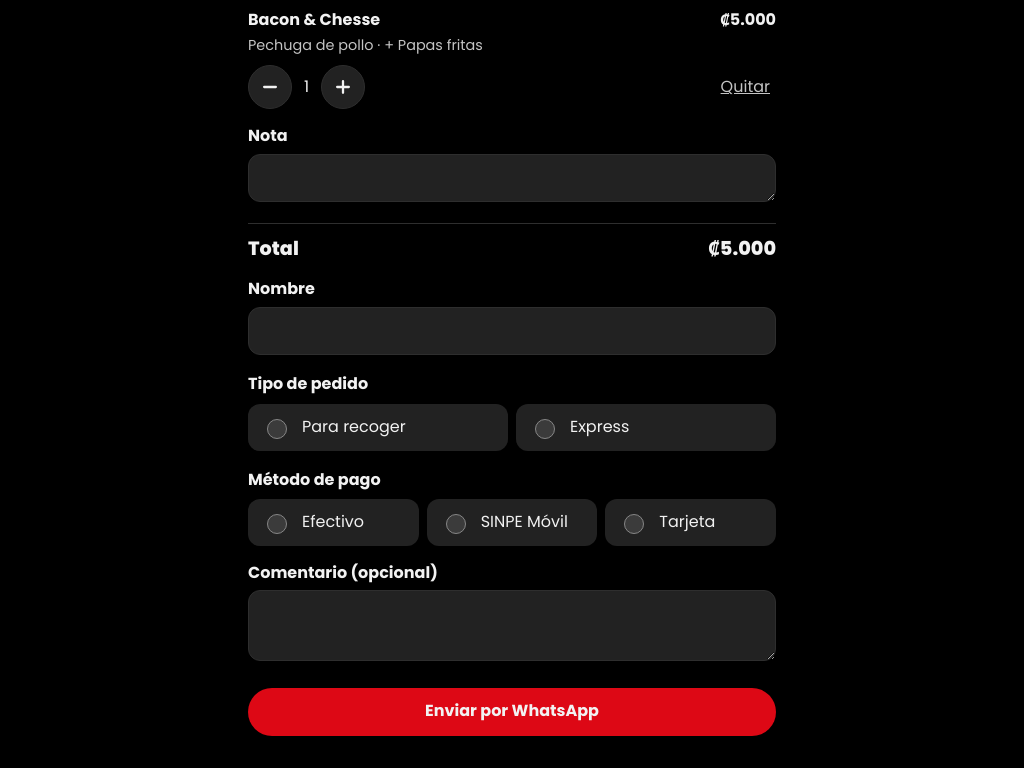
Test: OrderView › anuncia los datos que faltan y lleva el foco al primer campo
(page scrolled)
Click the button "Enviar por WhatsApp": click(512, 712) [248,688,776,736]
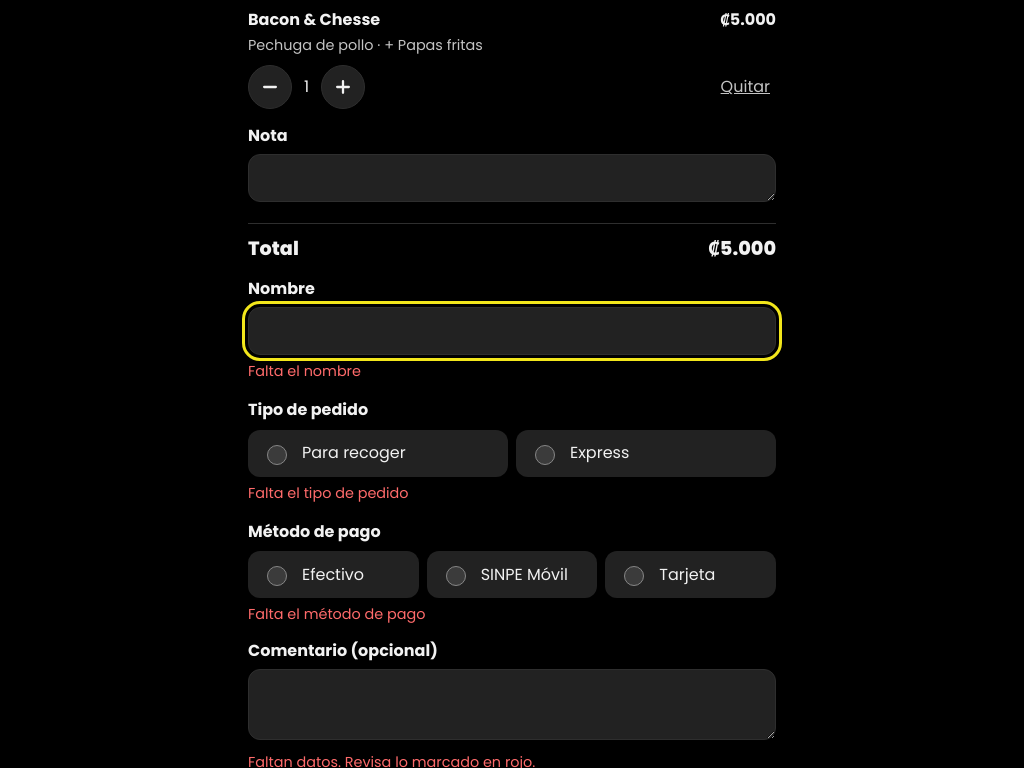
Now the message reads "Faltan datos. Revisa lo marcado en rojo.", box [248,752,535,767]
